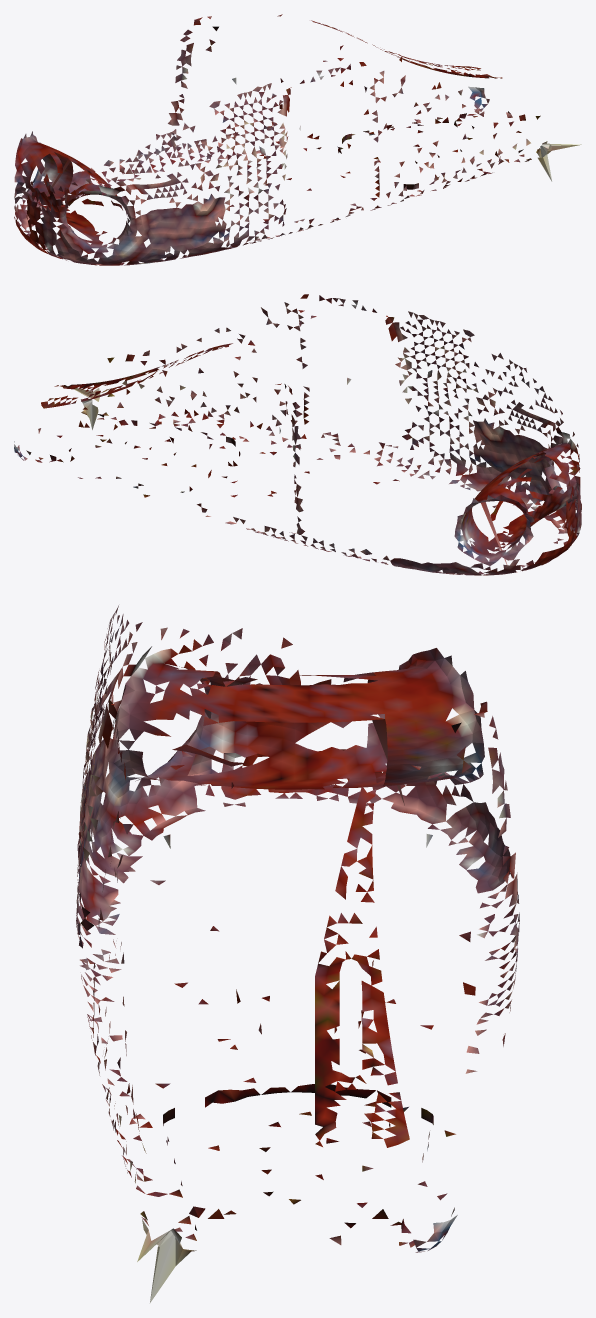
3 renders of one model, top to bottom at view 1: azimuth 30°, elevation 25°; view 2: azimuth 150°, elevation 25°; view 3: azimuth 270°, elevation 25°, orthographic. The views are drawn at different scales.
Bounding box in the file's own units: 2.01 × 0.6609 × 0.75.
